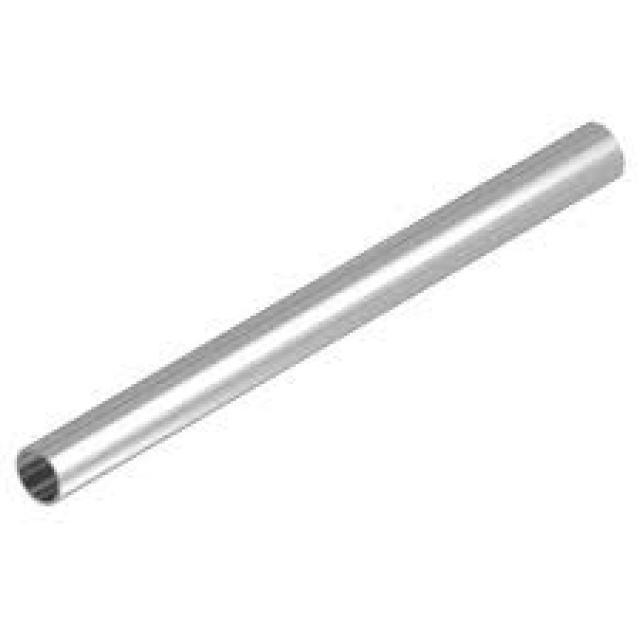pipe: (16, 451, 59, 504)
